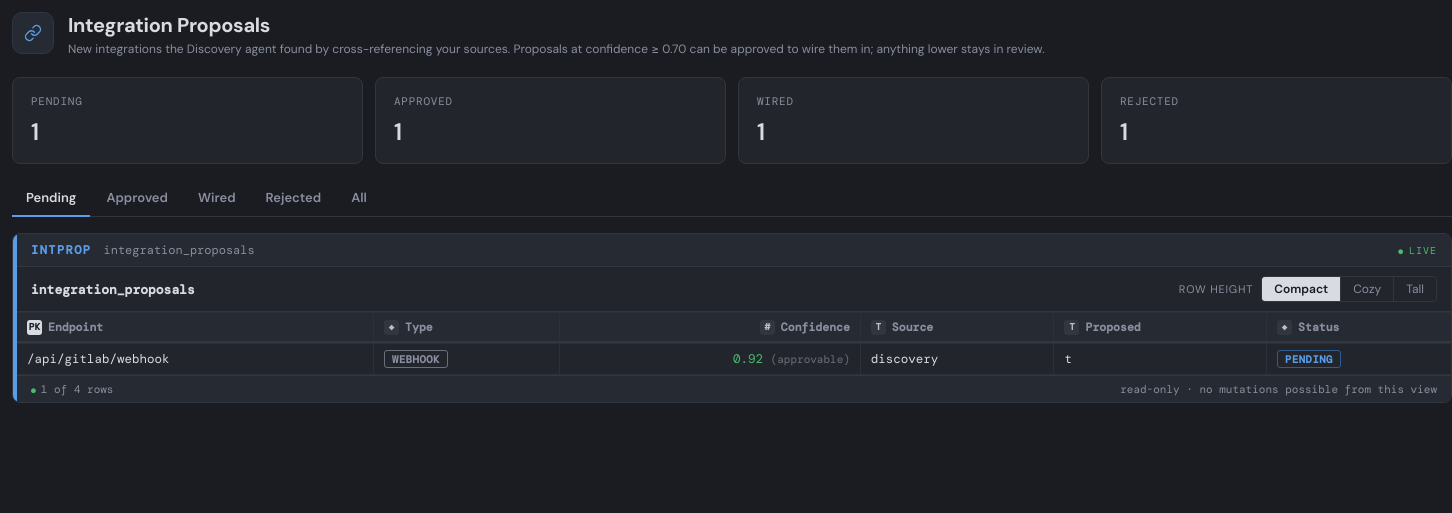
Scenario: Intprops page — Phase 3 design-system rebuild (TRK-198/TRK-215 lineage) › stat tile colors match row badge tones, and approved/wired are visually distinct
Expected: the text "/api/gitlab/webhook" is shown, [17,344,374,374]
Note: default tab is "pending", so switch to All to see every status rendered as a badge
Click the tab "All".
click(359, 198)  # box [337,180,381,217]
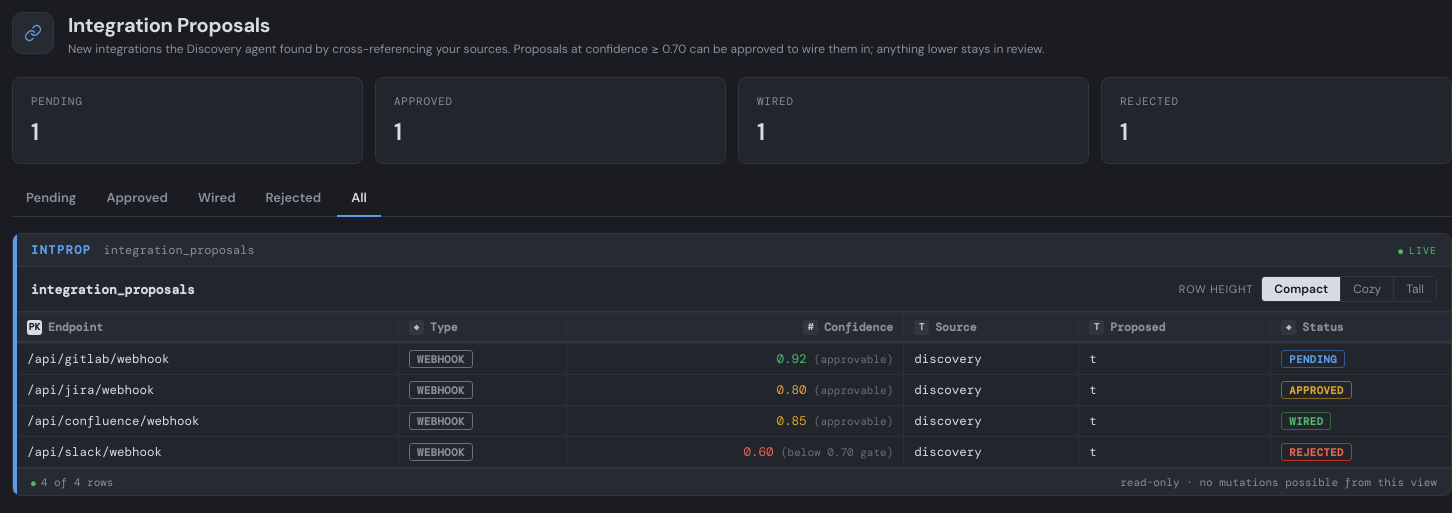
Now the text "/api/slack/webhook" is shown, box [17,436,399,468]
